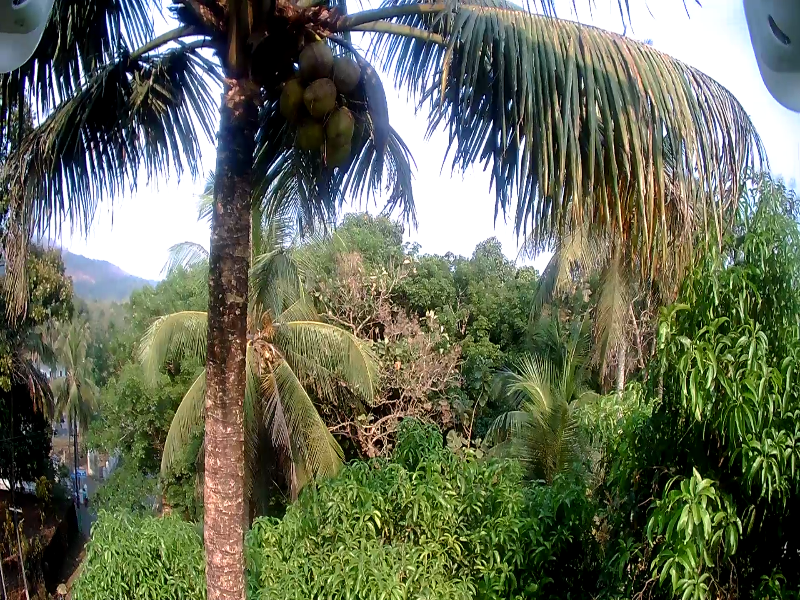coconut: (301, 46, 338, 78), (279, 80, 308, 110), (323, 136, 354, 164), (301, 126, 325, 156), (329, 109, 351, 140), (308, 81, 329, 112), (335, 55, 357, 84)
